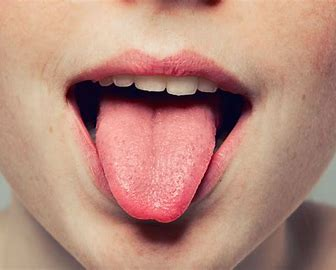baitaishe: (95, 100, 217, 224)
hongshe: (95, 100, 217, 224)
